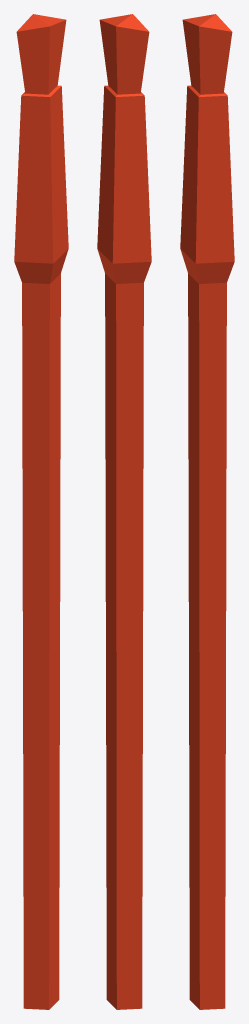
The model's file is SM_Brush_B_City.fbx.
The picture shows the model from 3 angles, left to right: view 1: azimuth 30°, elevation 25°; view 2: azimuth 150°, elevation 25°; view 3: azimuth 330°, elevation 25°; orthographic projection.
Parts seen in each view (by area): view 1: SM_Brush_B_City; view 2: SM_Brush_B_City; view 3: SM_Brush_B_City.
Part boxes in pixels (x1=…): SM_Brush_B_City: x1=14, y1=14, x2=68, y2=1009; SM_Brush_B_City: x1=97, y1=14, x2=151, y2=1009; SM_Brush_B_City: x1=180, y1=14, x2=234, y2=1009.
Size of the model in its own units: 0.0169 by 0.2924 by 0.0126.
